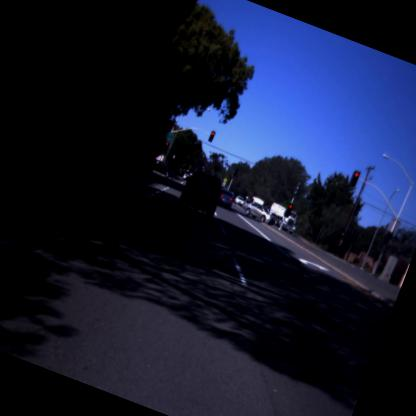trafficlight: (345, 166, 363, 190), (280, 200, 297, 222), (156, 136, 172, 157), (205, 128, 218, 144)
